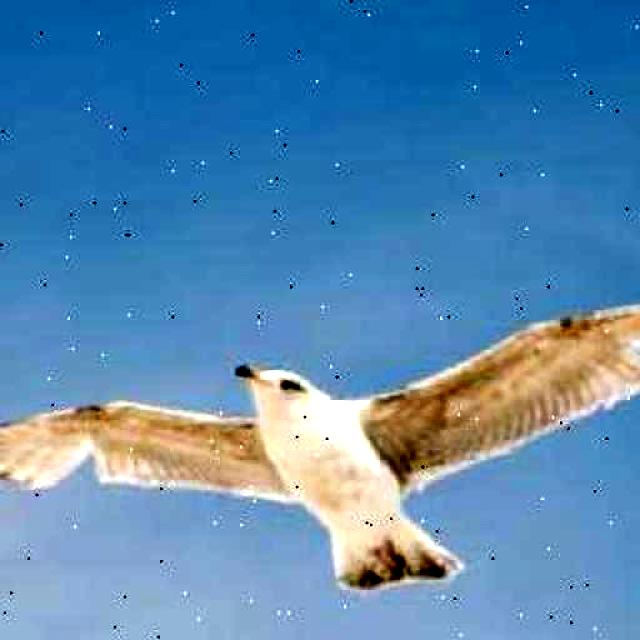airplane: (0, 254, 640, 640)
